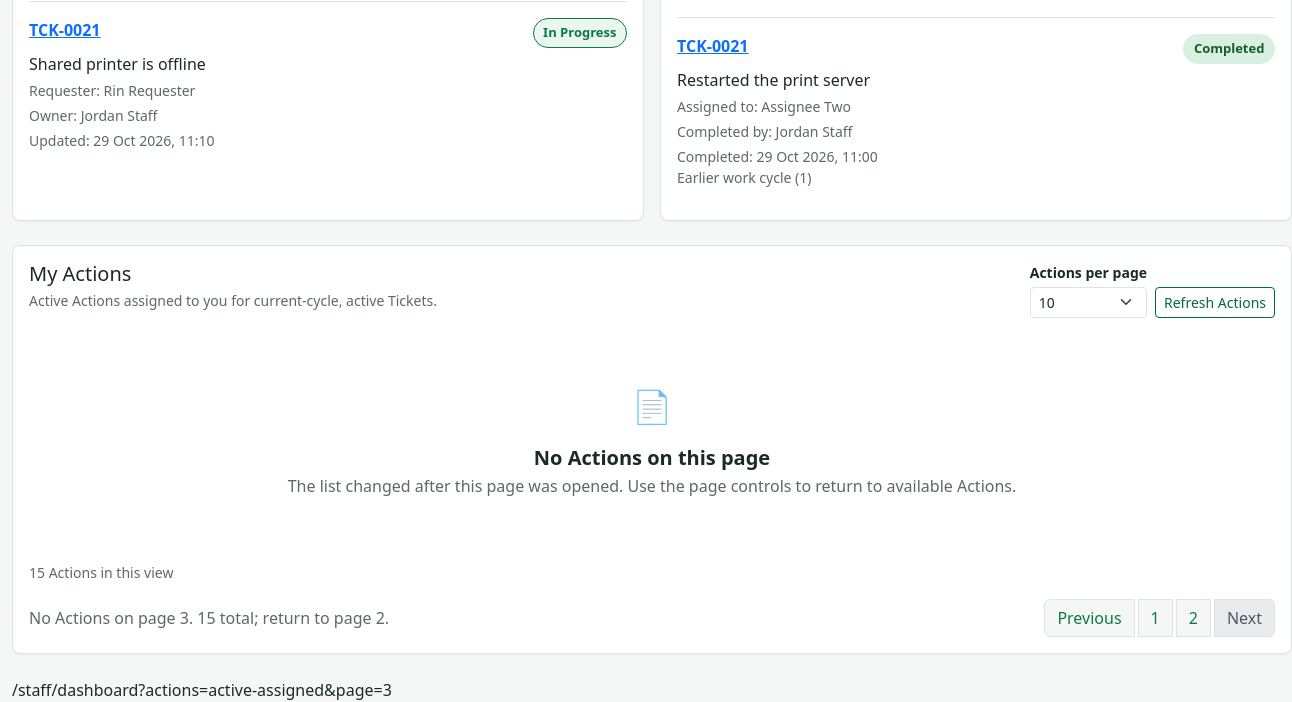
Test: Issue 90 Staff/Admin Dashboard › keeps navigation when the current Actions page is beyond its latest total
(page scrolled)
Expected: the text "No Actions on page 3. 15 total; return to page 2." is shown, x1=29 y1=606 x2=389 y2=630
Click the button "Previous".
click(1090, 618)  # box x1=1044 y1=599 x2=1135 y2=637
(page scrolled)
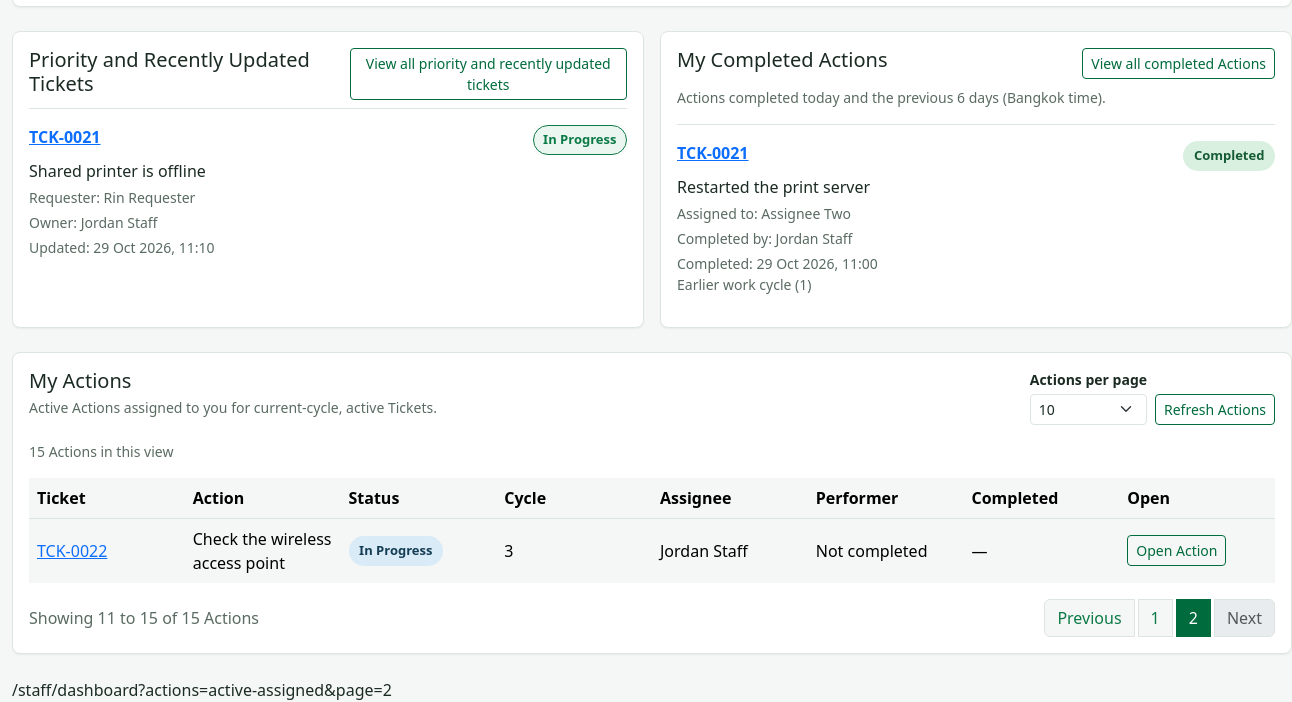
Result: the text "Check the wireless access point" is shown 2 times
